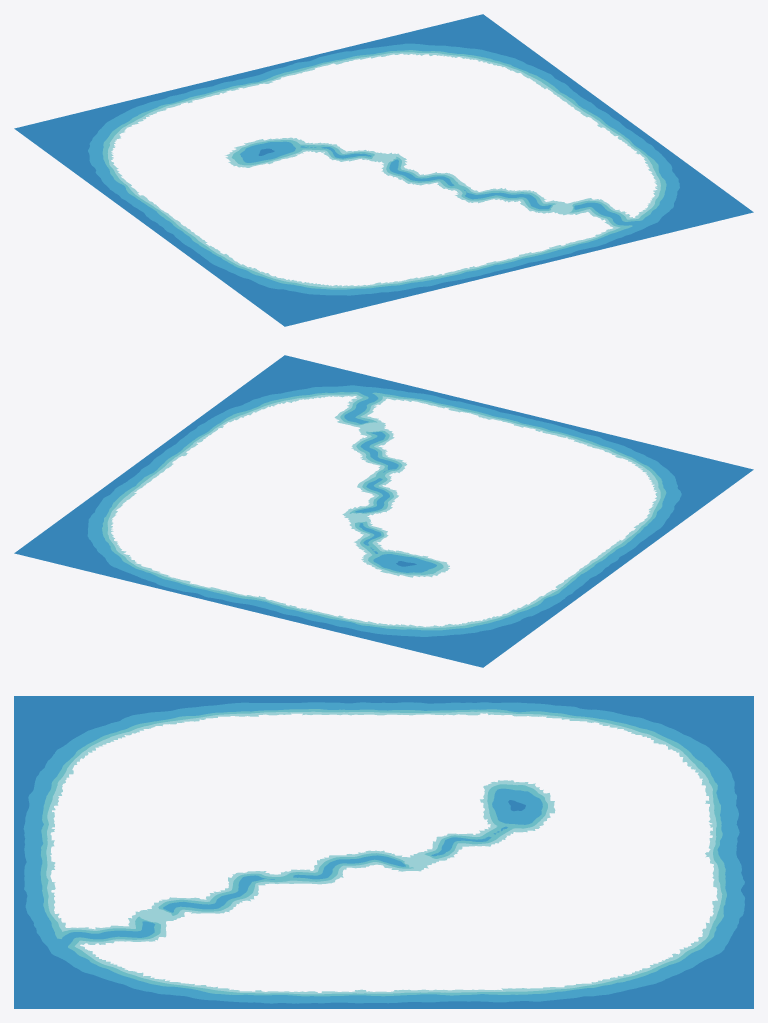
File: Map-3-Water.fbx
The picture shows the model from 3 angles, top to bottom: view 1: azimuth 30°, elevation 25°; view 2: azimuth 150°, elevation 25°; view 3: azimuth 270°, elevation 25°; orthographic projection. The views are drawn at different scales.
Visible parts, largest first — view 1: Map-3-Water; view 2: Map-3-Water; view 3: Map-3-Water.
Part boxes in pixels (x1,y1,x2,y2): Map-3-Water: (14,14,753,326); Map-3-Water: (14,355,753,667); Map-3-Water: (14,696,753,1008).
Size of the model in its own units: 200 by 0 by 200.
